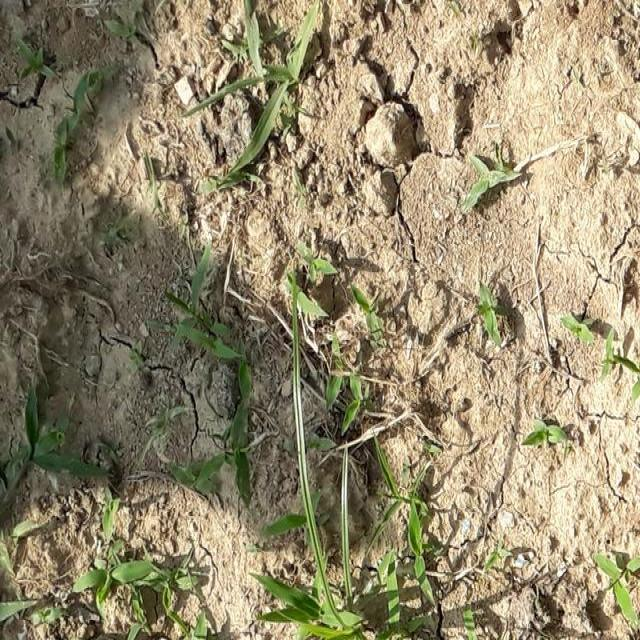weed: (249, 554, 490, 629), (0, 535, 218, 600)
